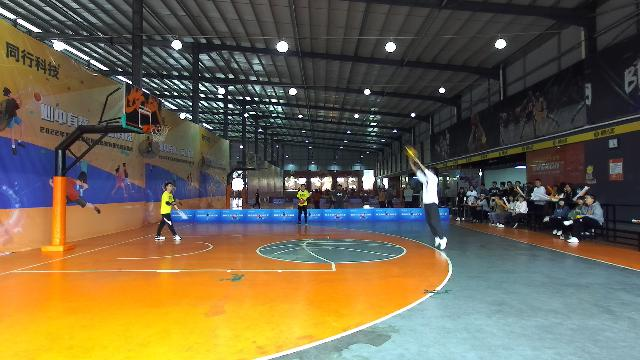ball: (405, 146, 415, 156), (298, 198, 304, 202)
basket: (150, 124, 170, 142)
